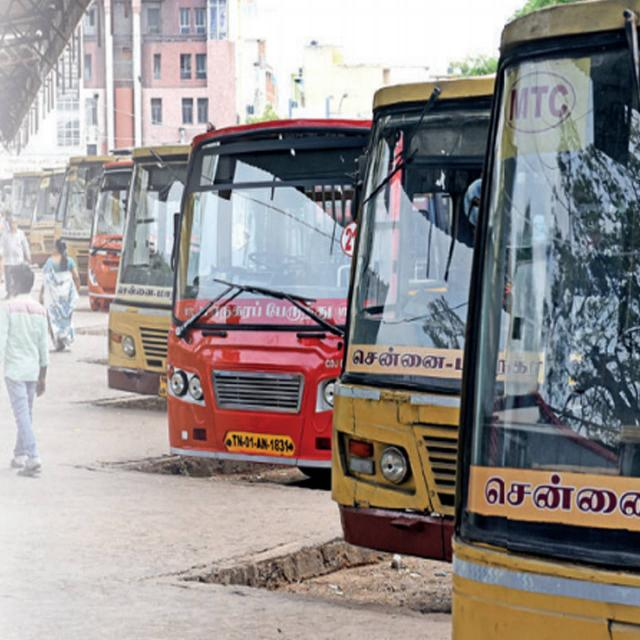bus: (336, 81, 510, 568), (168, 119, 368, 503)
